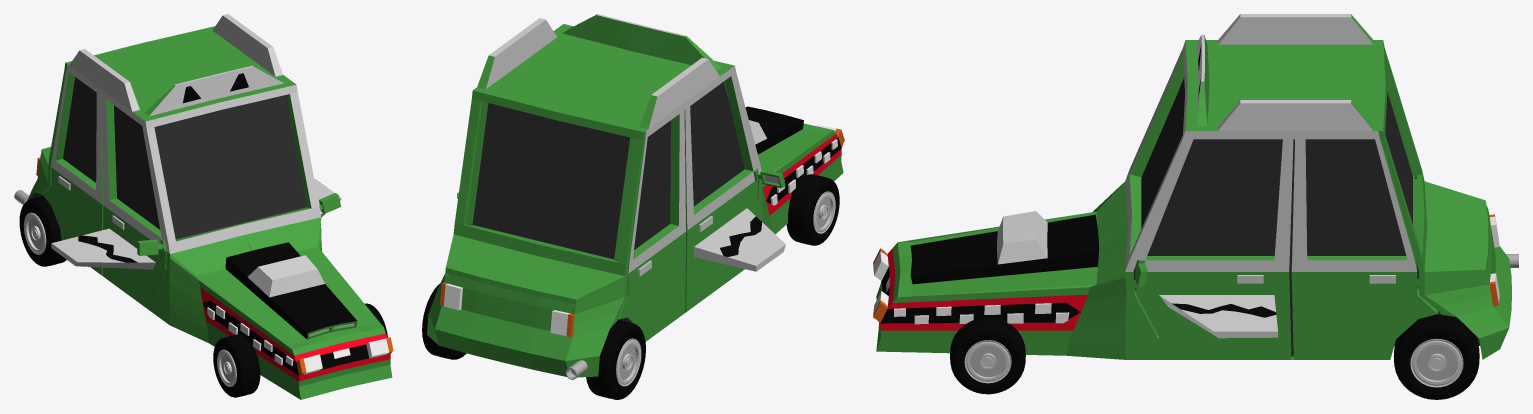
3 renders of one model, left to right at view 1: azimuth 30°, elevation 25°; view 2: azimuth 150°, elevation 25°; view 3: azimuth 270°, elevation 25°, orthographic. The views are drawn at different scales.
Parts seen in each view (by area): view 1: BODY33B, WHEEL.001, WHEEL.004; view 2: BODY33B, WHEEL.004, WHEEL.001, WHEEL.002; view 3: BODY33B, WHEEL.002, WHEEL.003.
Boxes of the visible parts, x1=… form: BODY33B: x1=27, y1=14, x2=393, y2=399; WHEEL.001: x1=213, y1=334, x2=260, y2=397; WHEEL.004: x1=19, y1=196, x2=66, y2=266; BODY33B: x1=427, y1=14, x2=844, y2=377; WHEEL.004: x1=586, y1=320, x2=645, y2=399; WHEEL.001: x1=786, y1=174, x2=839, y2=245; WHEEL.002: x1=422, y1=284, x2=466, y2=359; BODY33B: x1=873, y1=14, x2=1511, y2=359; WHEEL.002: x1=1393, y1=314, x2=1479, y2=399; WHEEL.003: x1=950, y1=317, x2=1025, y2=394.
Size of the model in its own units: 148 by 128 by 254.
